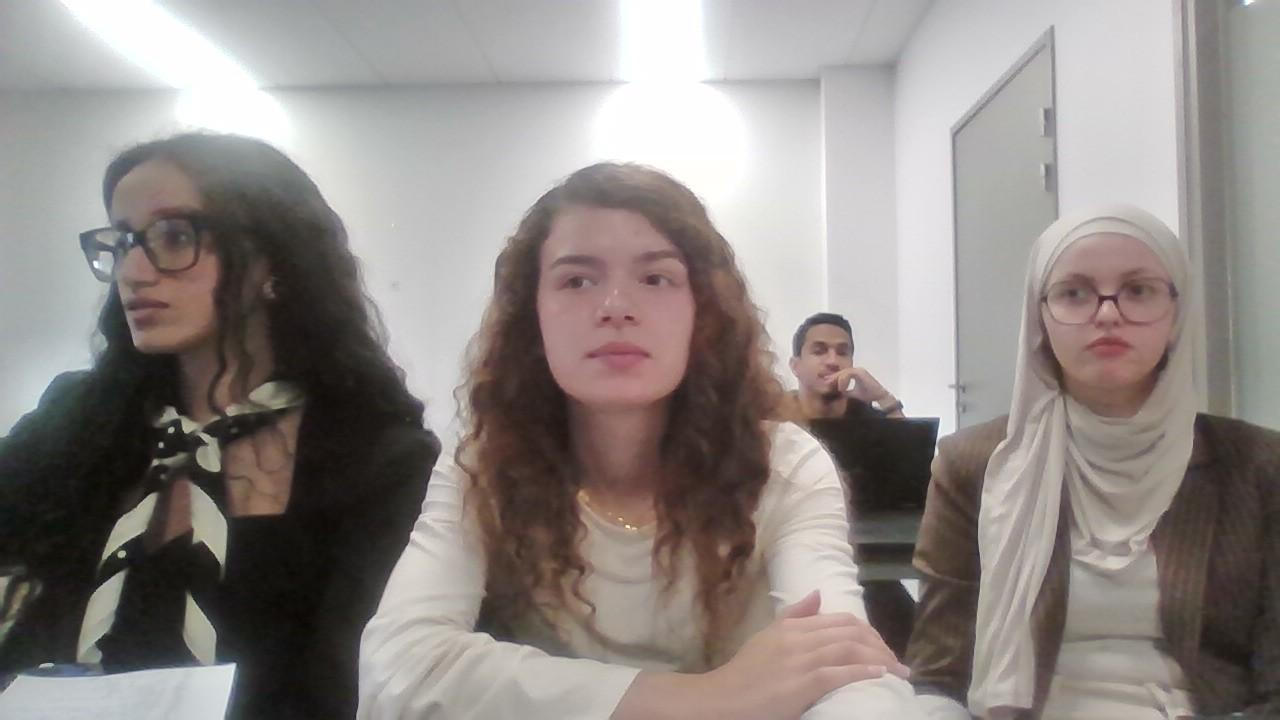looking_forward: (397, 132, 829, 720), (0, 133, 373, 648), (960, 175, 1280, 720), (793, 297, 917, 455)
